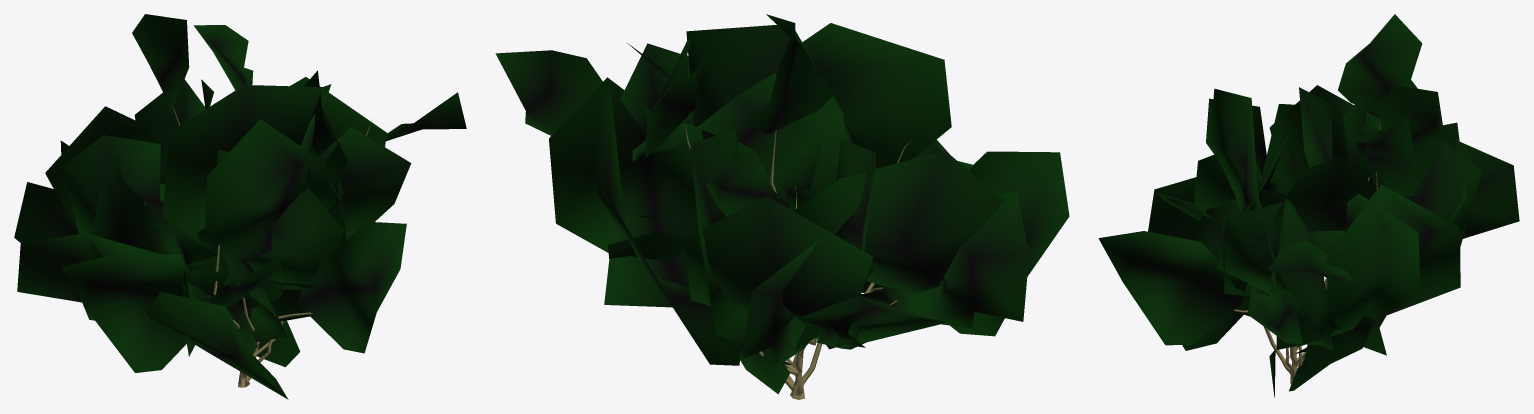
File: RoseBushBigDryRHEP_A.fbx
The picture shows the model from 3 angles, left to right: view 1: azimuth 30°, elevation 25°; view 2: azimuth 150°, elevation 25°; view 3: azimuth 270°, elevation 25°; orthographic projection. The views are drawn at different scales.
Visible parts, largest first — view 1: RBBDRHEPA-Leaves_LOD0, RBBDRHEPA-Branches_LOD0; view 2: RBBDRHEPA-Leaves_LOD0, RBBDRHEPA-Branches_LOD0; view 3: RBBDRHEPA-Leaves_LOD0, RBBDRHEPA-Branches_LOD0.
Boxes of the visible parts, left/top/right/bottom form: RBBDRHEPA-Leaves_LOD0: left=14, top=14, right=466, bottom=399; RBBDRHEPA-Branches_LOD0: left=173, top=107, right=371, bottom=387; RBBDRHEPA-Leaves_LOD0: left=495, top=14, right=1069, bottom=394; RBBDRHEPA-Branches_LOD0: left=684, top=119, right=911, bottom=399; RBBDRHEPA-Leaves_LOD0: left=1098, top=14, right=1519, bottom=397; RBBDRHEPA-Branches_LOD0: left=1233, top=122, right=1380, bottom=384.
Size of what is drawn, in the model's own units: 3.58 by 2.75 by 3.03.
